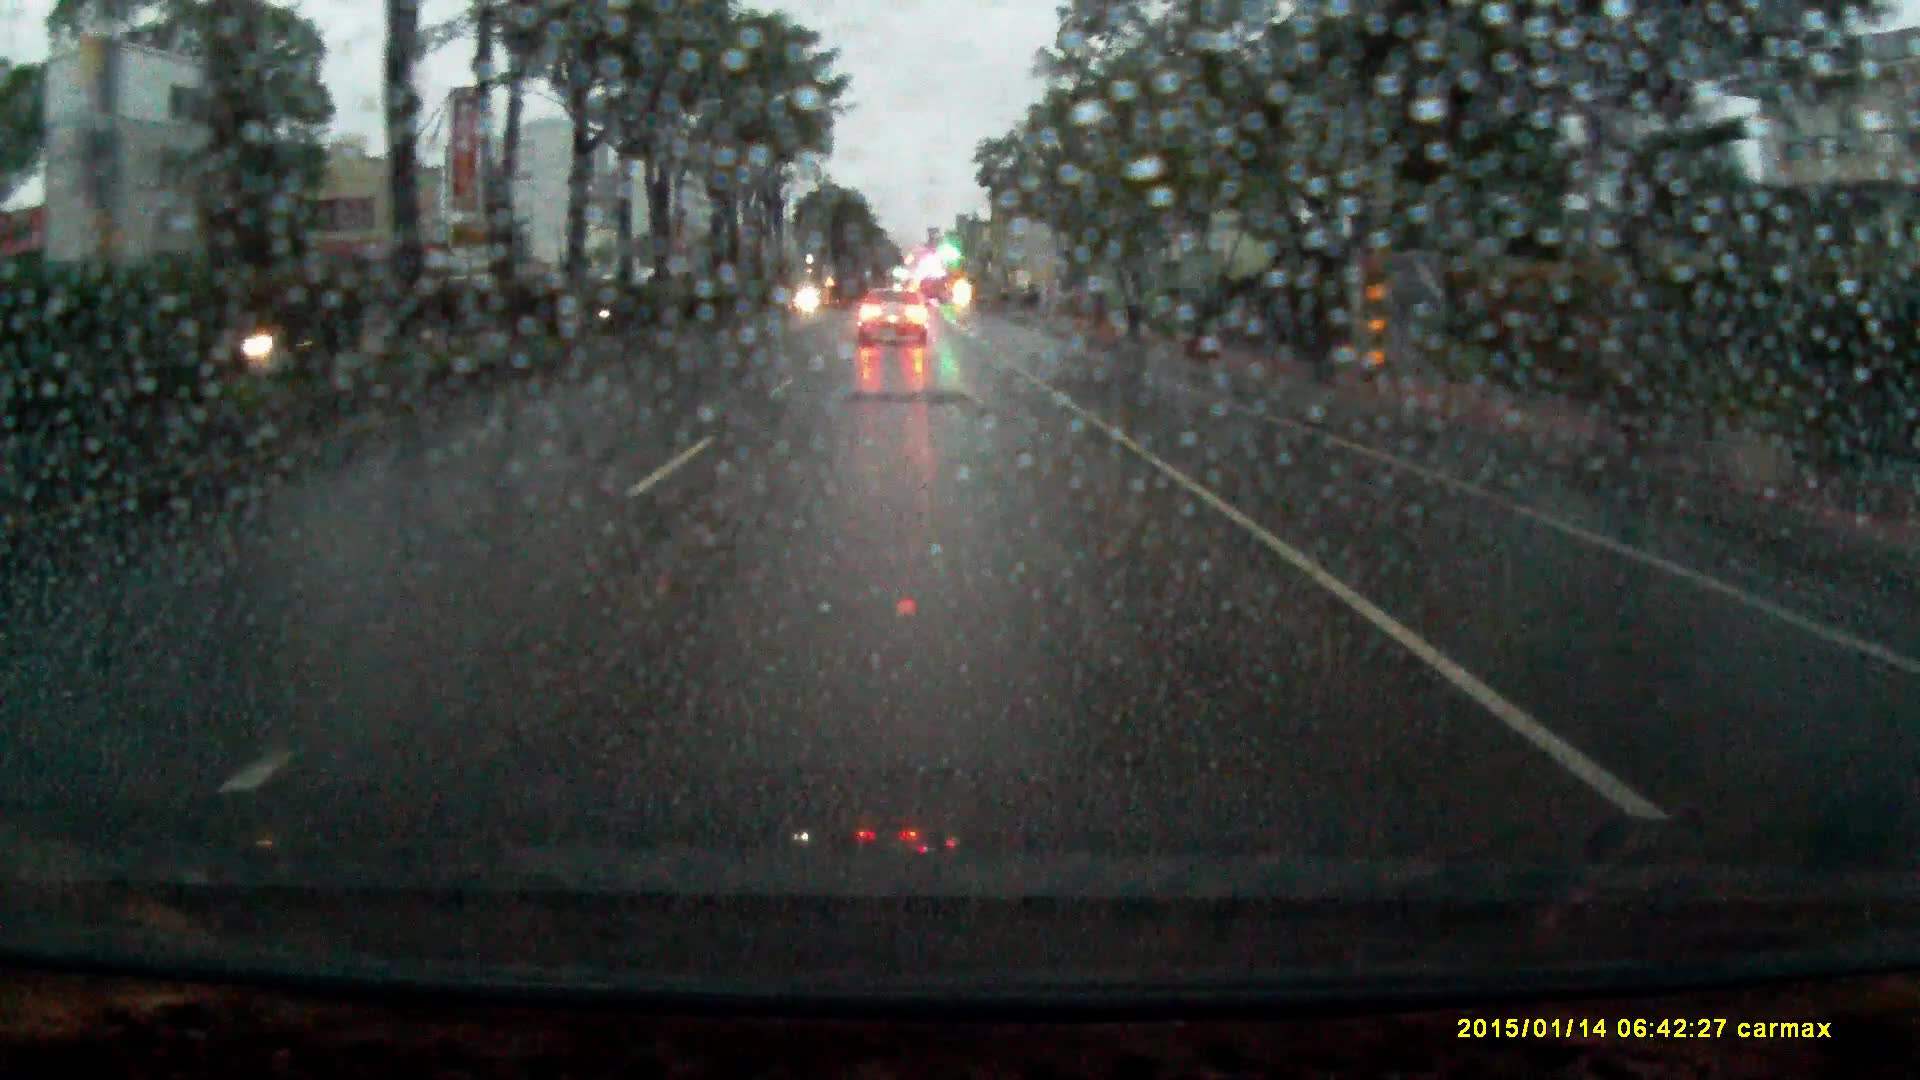vehicle: (858, 287, 928, 348)
